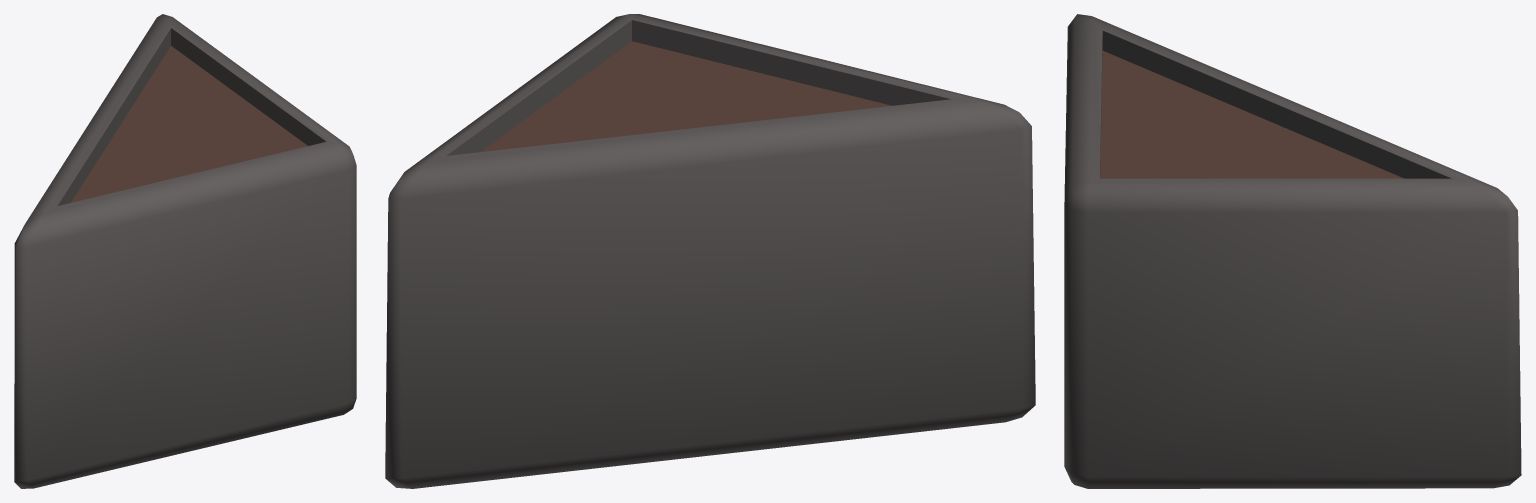
The model's file is plantPot03.fbx.
3 renders of one model, left to right at view 1: azimuth 30°, elevation 25°; view 2: azimuth 150°, elevation 25°; view 3: azimuth 270°, elevation 25°, orthographic. The views are drawn at different scales.
Parts seen in each view (by area): view 1: plantPot03; view 2: plantPot03; view 3: plantPot03.
Part boxes in pixels (box(x1,y1,x2,y2)): plantPot03: box(14, 14, 356, 488); plantPot03: box(385, 14, 1035, 488); plantPot03: box(1064, 14, 1521, 488).
Bounding box in the file's own units: 196 × 146 × 197.
